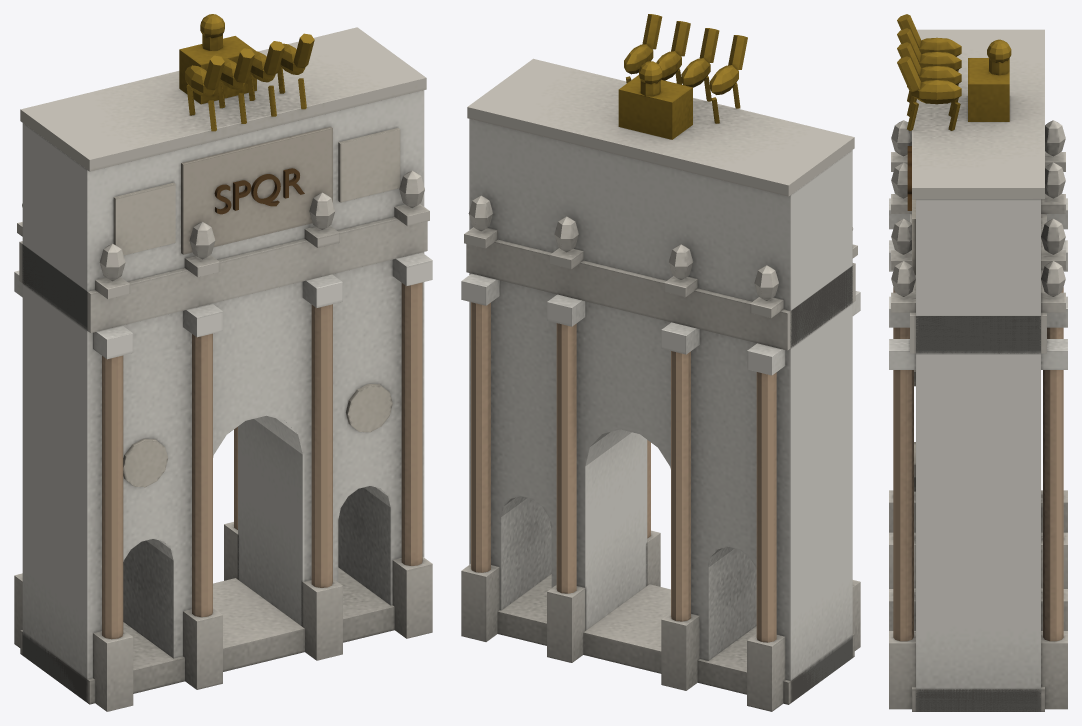
The model's file is luk_triumfalny.glb.
3 renders of one model, left to right at view 1: azimuth 30°, elevation 25°; view 2: azimuth 150°, elevation 25°; view 3: azimuth 270°, elevation 25°, orthographic. The views are drawn at different scales.
Parts seen in each view (by area): view 1: luk_triumfalny; view 2: luk_triumfalny; view 3: luk_triumfalny.
Part boxes in pixels (box(x1,y1,x2,y2)): luk_triumfalny: box(14, 14, 432, 711); luk_triumfalny: box(461, 14, 860, 711); luk_triumfalny: box(889, 14, 1067, 711).
Size of the model in its own units: 1.8 by 3.16 by 0.86.
Materials: 1 (1 with a texture image).
